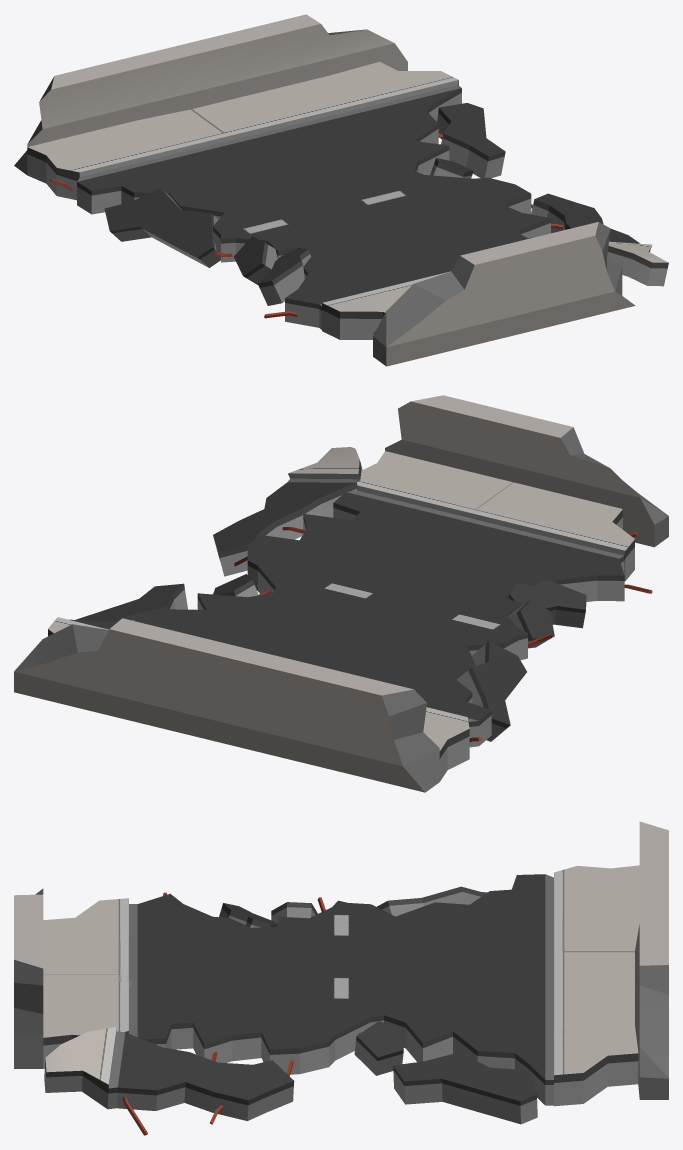
File: SA_Env_Highway_Broken_04.gltf
3 views of the same model, one above another, from view 1: azimuth 30°, elevation 25°; view 2: azimuth 150°, elevation 25°; view 3: azimuth 270°, elevation 25° (orthographic). The views are drawn at different scales.
Visible parts, largest first — view 1: SA_Env_Highway_Broken_04; view 2: SA_Env_Highway_Broken_04; view 3: SA_Env_Highway_Broken_04.
Boxes of the visible parts, box(x1,y1,x2,y2) form: SA_Env_Highway_Broken_04: box(14, 14, 668, 366); SA_Env_Highway_Broken_04: box(14, 395, 668, 792); SA_Env_Highway_Broken_04: box(14, 821, 668, 1135).
Bounding box in the file's own units: 17.38 × 4.27 × 21.96.
1 material, 1 textured.
